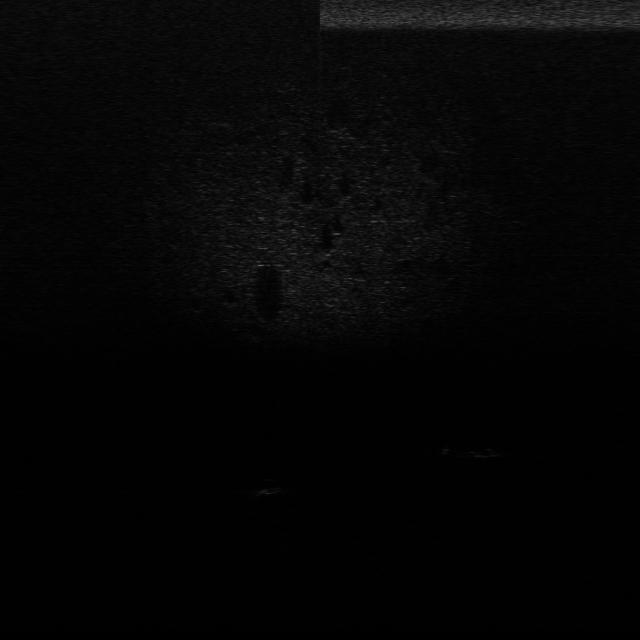ball: (247, 474, 289, 497)
human body: (432, 442, 524, 462)
